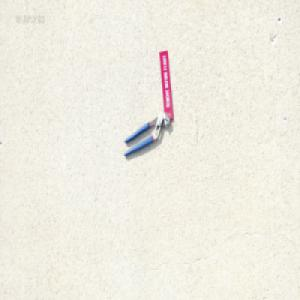Label: (158, 49, 174, 119)
Pliers: (123, 111, 170, 157)
